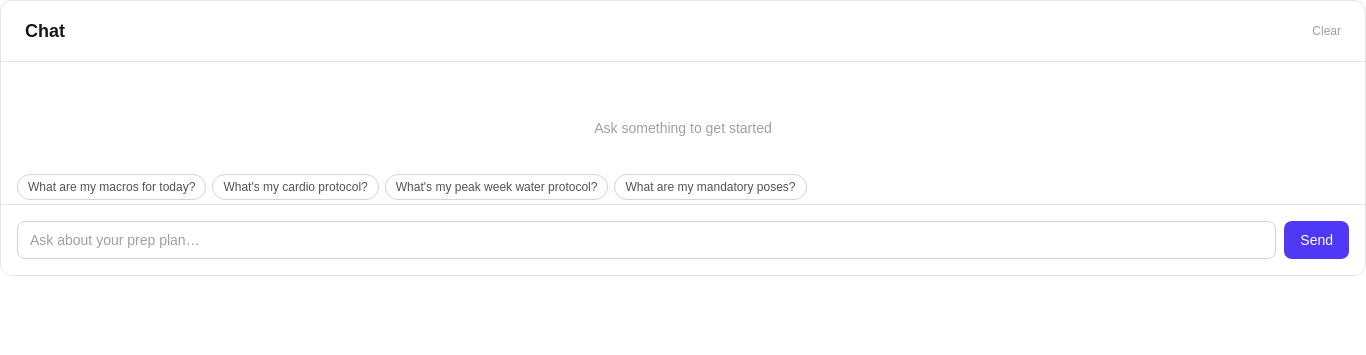
Test case: Task 9 (extended): Source citations › should deduplicate filenames that appear multiple times in the suffix
The width and height of the screenshot is (1366, 355).
Type "Q?" into the field at (647, 240), box [17, 221, 1276, 259]
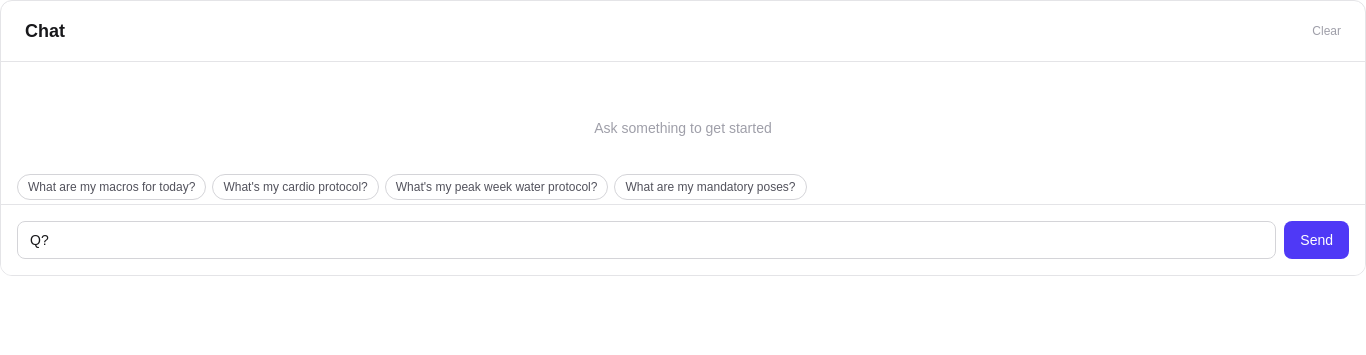
Click the button "Send" at (1317, 240), box [1284, 221, 1349, 259]
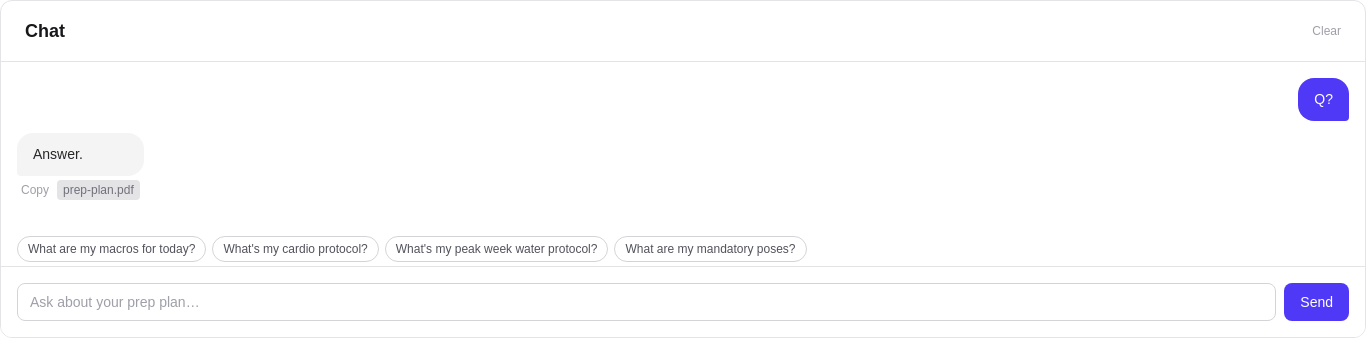
Expected: the text "prep-plan.pdf" is shown once, [57, 180, 140, 200]
